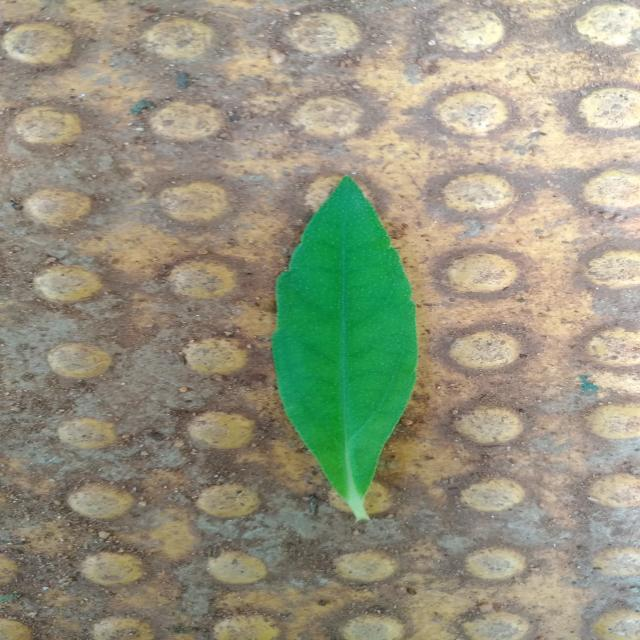bringaraja: (273, 176, 418, 520)
